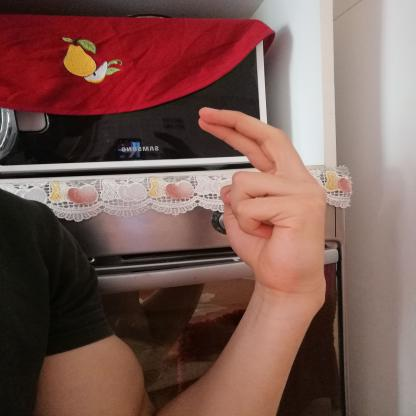ZAY: (182, 99, 336, 300)
